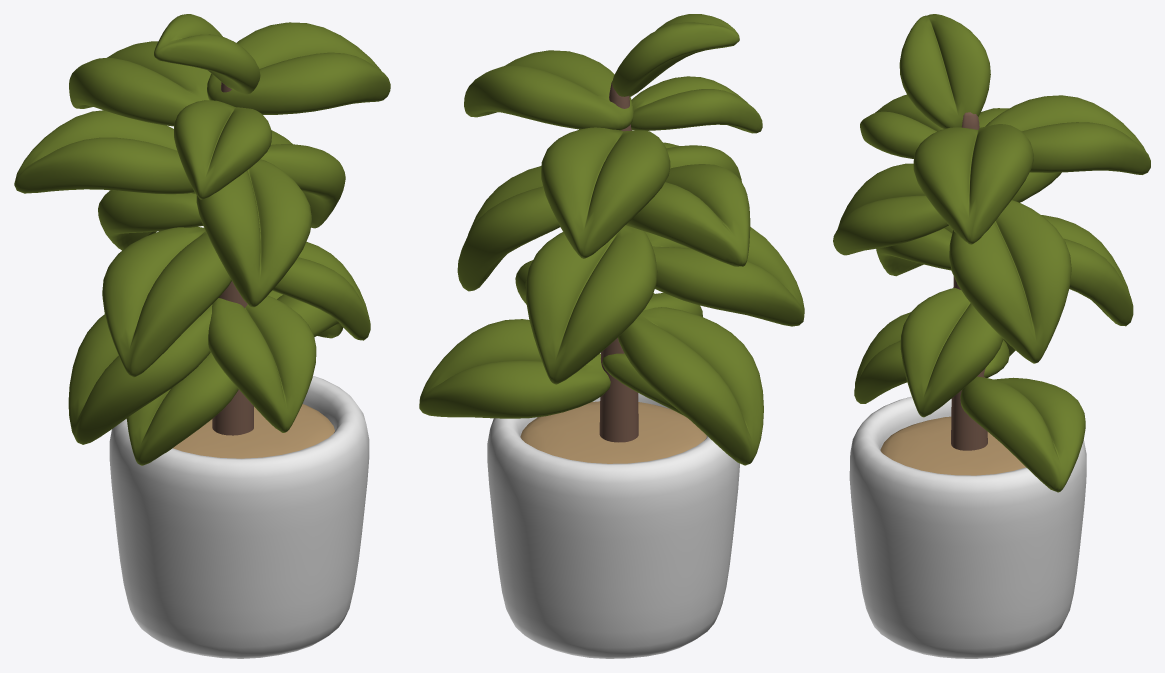
The model's file is plant2.glb.
The picture shows the model from 3 angles, left to right: view 1: azimuth 30°, elevation 25°; view 2: azimuth 150°, elevation 25°; view 3: azimuth 270°, elevation 25°; orthographic projection. The views are drawn at different scales.
Parts seen in each view (by area): view 1: long plant.002, Plane.078, Plane.081, Plane.002, Plane.079, Plane.005, Plane.083, Plane.084, Plane.080, Plane.004, Plane.085, Plane.001 (+5 smaller); view 2: long plant.002, Plane.077, Plane.083, Plane.003, Plane.084, Plane.002, Plane.078, Plane.081, long plant.003, Plane.082, Plane.080, Plane.001 (+4 smaller); view 3: long plant.002, Plane.082, Plane.002, Plane.003, Plane.085, Plane.084, Plane.001, Plane.079, long plant.003, Plane.077, Plane.080, Plane.005 (+4 smaller).
Part boxes in pixels (left/top/right/bottom): long plant.002: left=109, top=376, right=369, bottom=658; Plane.078: left=102, top=226, right=231, bottom=377; Plane.081: left=14, top=110, right=194, bottom=194; Plane.002: left=207, top=22, right=390, bottom=114; Plane.079: left=196, top=159, right=311, bottom=307; Plane.005: left=208, top=295, right=316, bottom=432; Plane.083: left=68, top=304, right=212, bottom=444; Plane.084: left=69, top=41, right=211, bottom=126; Plane.080: left=174, top=100, right=271, bottom=199; Plane.004: left=126, top=352, right=238, bottom=465; Plane.085: left=272, top=241, right=370, bottom=340; Plane.001: left=154, top=14, right=260, bottom=94; long plant.002: left=487, top=393, right=739, bottom=658; Plane.077: left=525, top=225, right=657, bottom=384; Plane.083: left=618, top=307, right=763, bottom=465; Plane.003: left=419, top=319, right=610, bottom=418; Plane.084: left=541, top=127, right=670, bottom=258; Plane.002: left=464, top=50, right=633, bottom=130; Plane.078: left=644, top=227, right=804, bottom=326; Plane.081: left=626, top=164, right=750, bottom=266; long plant.003: left=520, top=401, right=706, bottom=463; Plane.082: left=457, top=166, right=560, bottom=291; Plane.080: left=631, top=76, right=762, bottom=133; Plane.001: left=612, top=14, right=739, bottom=96; long plant.002: left=849, top=396, right=1086, bottom=658; Plane.082: left=949, top=200, right=1071, bottom=363; Plane.002: left=913, top=124, right=1033, bottom=244; Plane.003: left=960, top=376, right=1085, bottom=492; Plane.085: left=900, top=288, right=1003, bottom=417; Plane.084: left=985, top=95, right=1150, bottom=174; Plane.001: left=899, top=14, right=990, bottom=128; Plane.079: left=833, top=163, right=948, bottom=255; long plant.003: left=880, top=416, right=1025, bottom=475; Plane.077: left=1041, top=215, right=1133, bottom=326; Plane.080: left=860, top=94, right=943, bottom=158; Plane.005: left=854, top=312, right=910, bottom=403.
Bounding box in the file's own units: 0.5941 × 1.07 × 0.5386.
